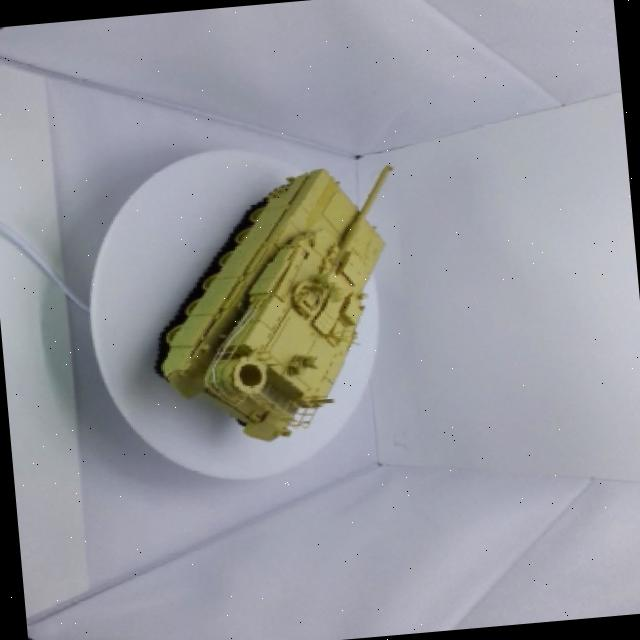korea tank: (120, 133, 451, 456)
